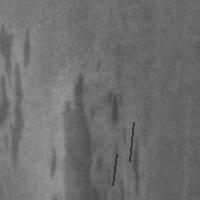inclusion: (47, 70, 108, 199), (1, 22, 33, 170), (103, 133, 141, 200), (102, 87, 127, 130), (127, 120, 135, 163), (110, 152, 118, 187)
